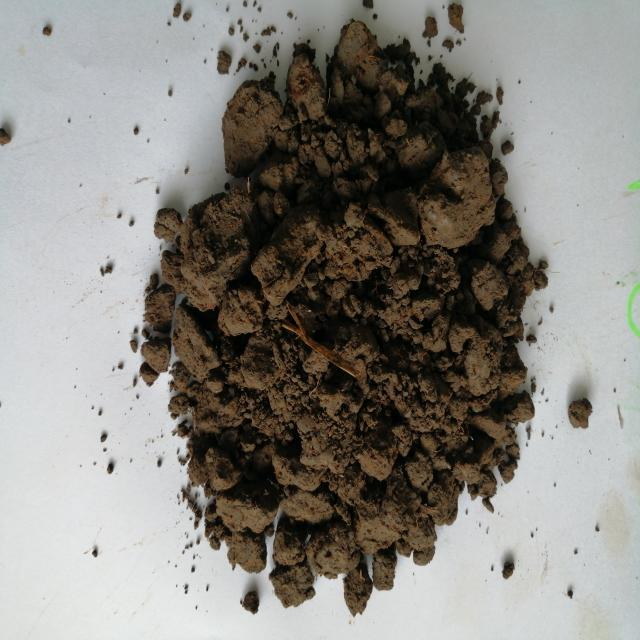soil: (160, 70, 530, 548)
